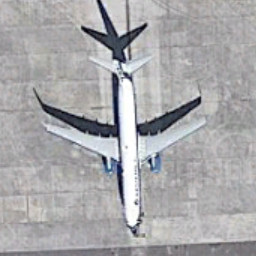Airplane: (33, 45, 223, 245)
